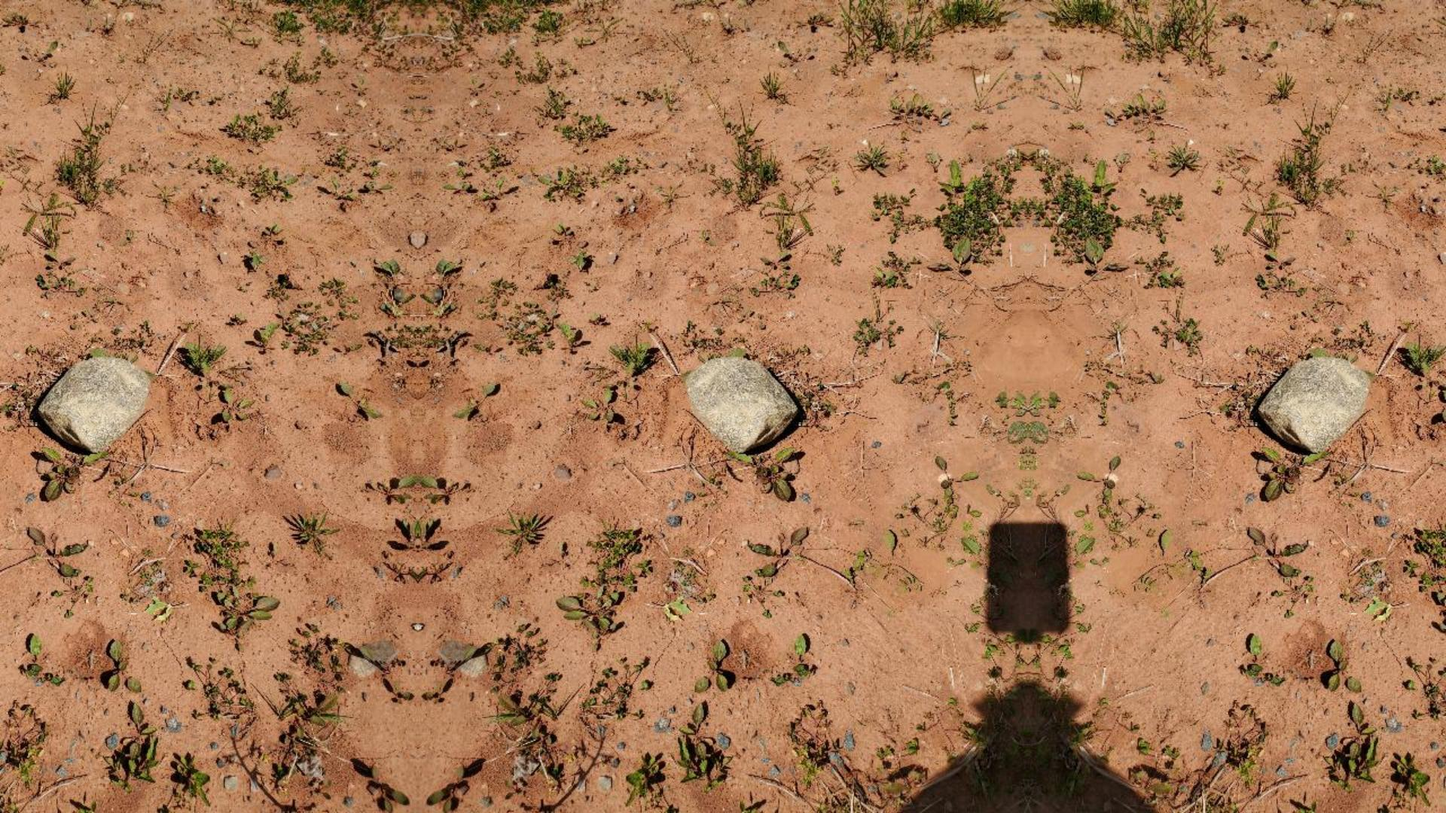rock: (1257, 357, 1373, 453), (685, 357, 798, 453), (37, 357, 149, 452)
